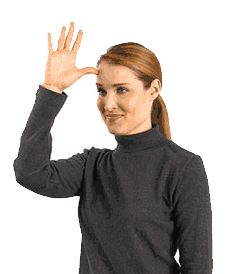dad: (46, 21, 140, 94)
